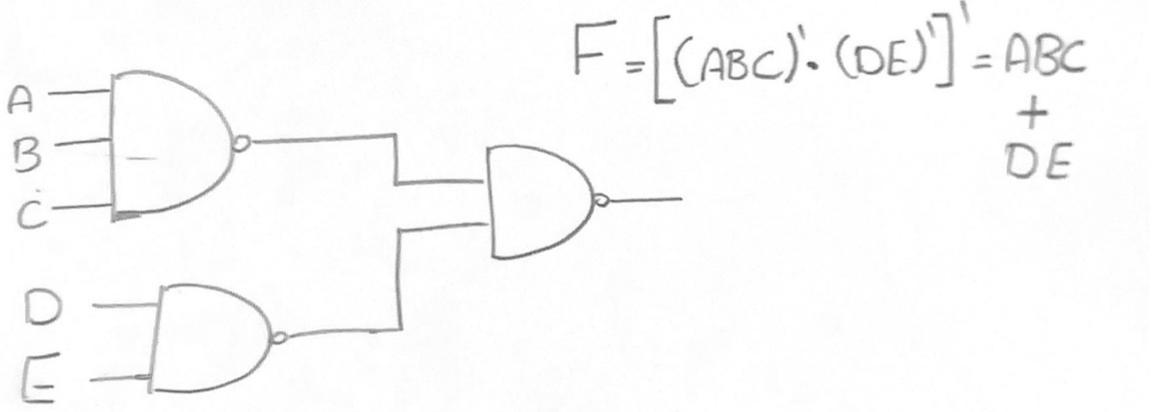NAND: (96, 61, 258, 241), (463, 131, 621, 285), (130, 274, 311, 401)
